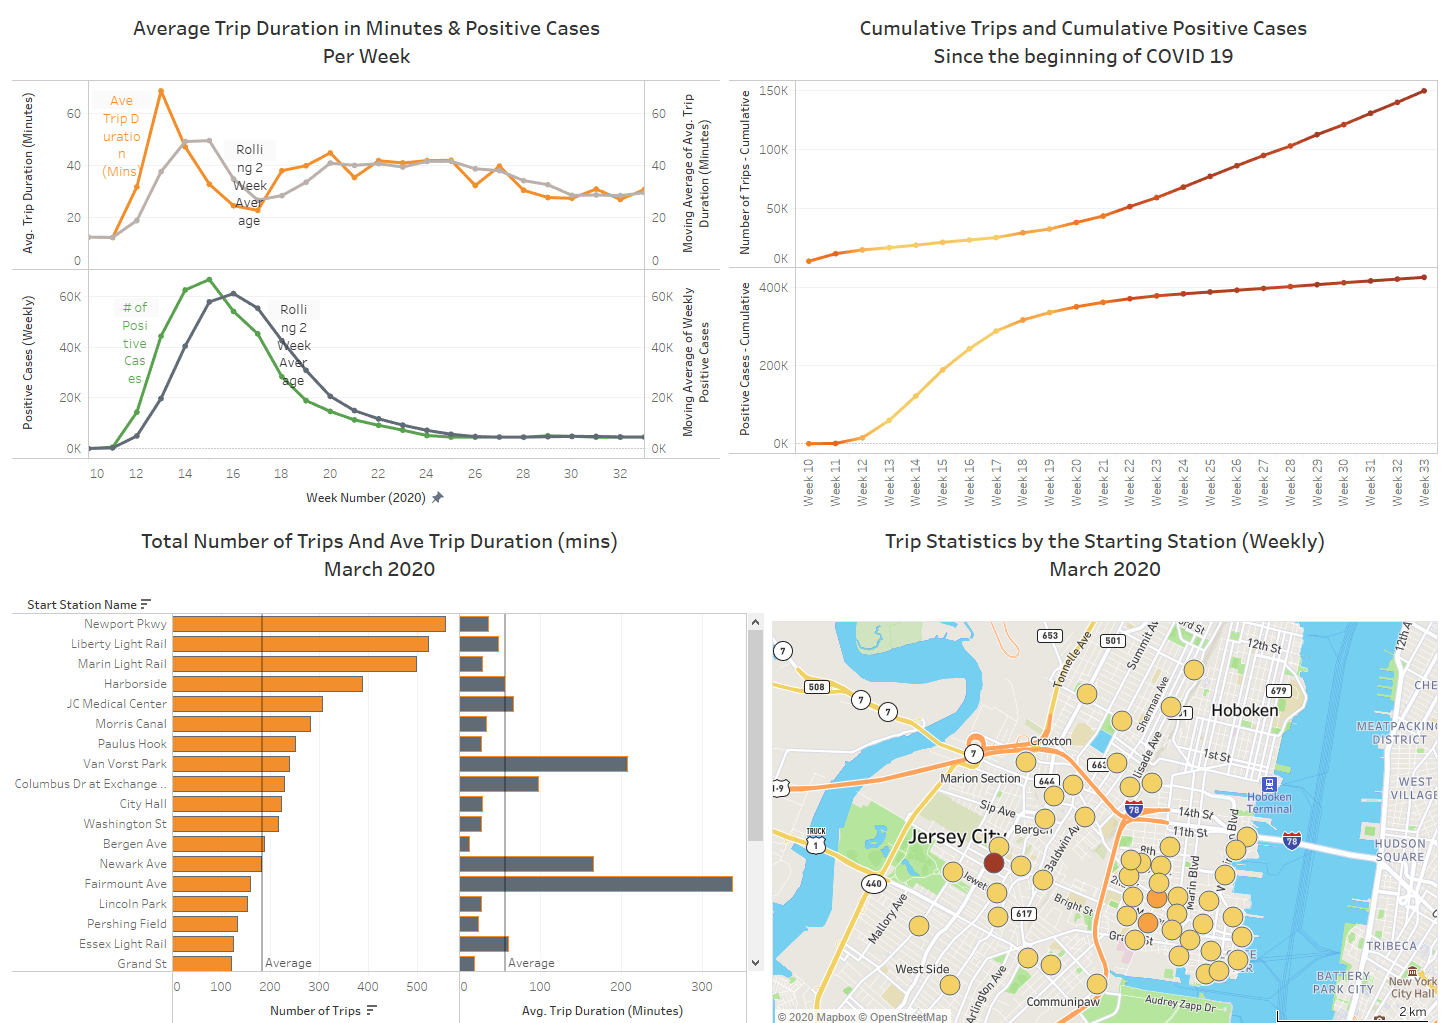

What the dashboard file says about the page in this screenshot:
{"tool":"tableau","page":{"name":"March Dashboard 2","canvas":[1000,1000],"units":"permille","ordinal":1},"visuals":[{"type":"worksheet","box":[0,0,1000,1000]},{"type":"worksheet","param":"horz","box":[5.5,7.7,989,984.6]},{"type":"worksheet","box":[5.5,7.7,989,984.6]},{"type":"worksheet","title":"Trip & Positive Cases","mark":"Automatic","rows":["Calculation_1431581766920511490","Calculation_1431581766920511490","positiveIncrease","positiveIncrease"],"cols":["StartDate"],"box":[5.5,7.7,494.5,492.3]},{"type":"worksheet","title":"Cumulative Trips/COVID","mark":"Automatic","rows":["Calculation_1431581766949429251","positiveIncrease"],"cols":["StartDate"],"box":[500,7.7,494.5,492.3]},{"type":"worksheet","title":"W12-15 Stations # and duration of trips (2)","mark":"Automatic","rows":["start station name"],"cols":["Calculation_1431581766949429251","Calculation_1431581766920511490"],"box":[5.5,500,524.1,492.3]},{"type":"worksheet","title":"Map of trips from Starting Station March 2020","mark":"Circle","rows":["start station latitude"],"cols":["start station longitude"],"box":[529.7,500,464.8,492.3]}]}

Visuals, with their boxes on the dashboard's canvas, which has no fixed pixel size, in thousandths of its width and height (x1, y1, x2, y2). These are canvas units, not pixel positions in the 1444x1023 screenshot, which may show the page scaled, cropped or inside an application window:
worksheet: (left=0, top=0, right=1000, bottom=1000)
worksheet: (left=6, top=8, right=994, bottom=992)
worksheet: (left=6, top=8, right=994, bottom=992)
"Trip & Positive Cases" worksheet: (left=6, top=8, right=500, bottom=500)
"Cumulative Trips/COVID" worksheet: (left=500, top=8, right=994, bottom=500)
"W12-15 Stations # and duration of trips (2)" worksheet: (left=6, top=500, right=530, bottom=992)
"Map of trips from Starting Station March 2020" worksheet (Circle marks): (left=530, top=500, right=994, bottom=992)
